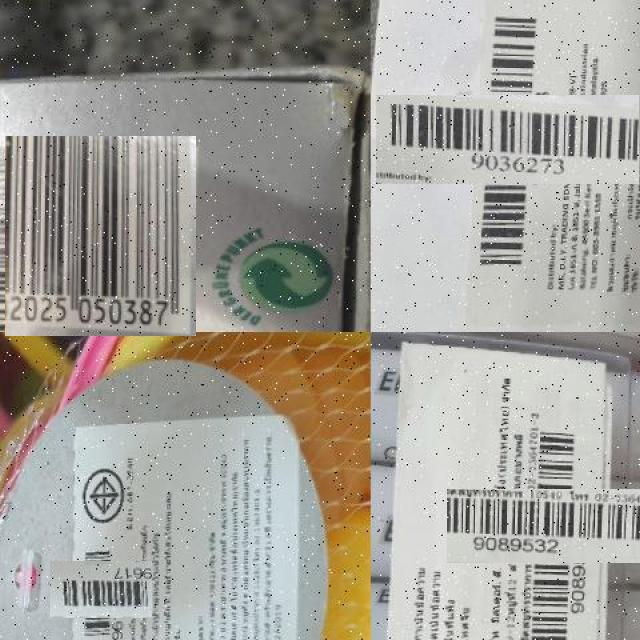Barcode: (2, 138, 198, 334), (423, 48, 608, 232), (484, 451, 636, 602), (61, 549, 141, 629)
